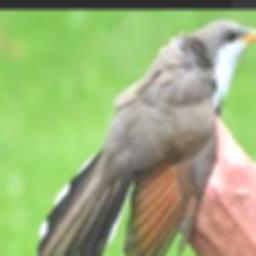Cuckoo: (35, 17, 256, 256)
